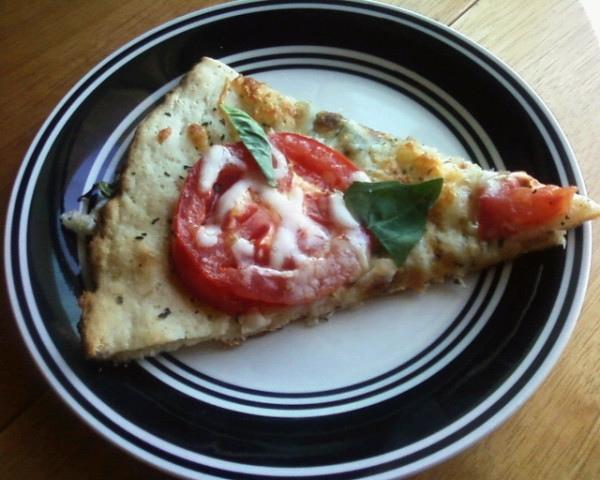tomato: (168, 130, 374, 314), (478, 179, 578, 241)
